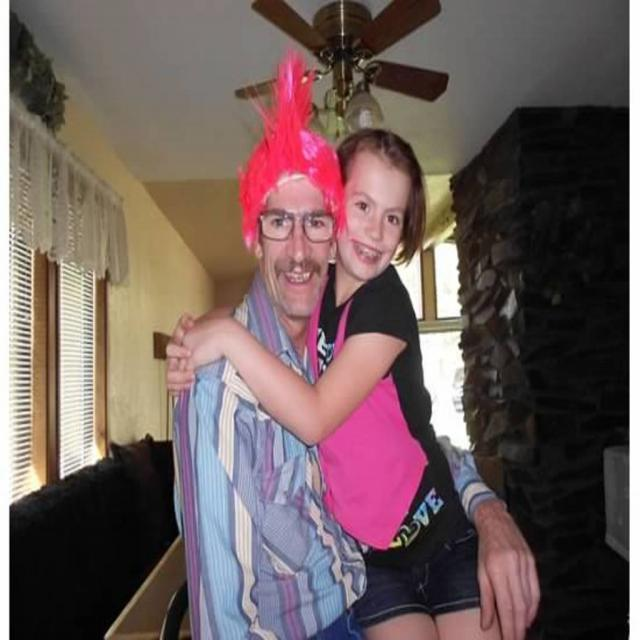bulb_off: (356, 105, 377, 129)
fan_off: (229, 0, 449, 111)
